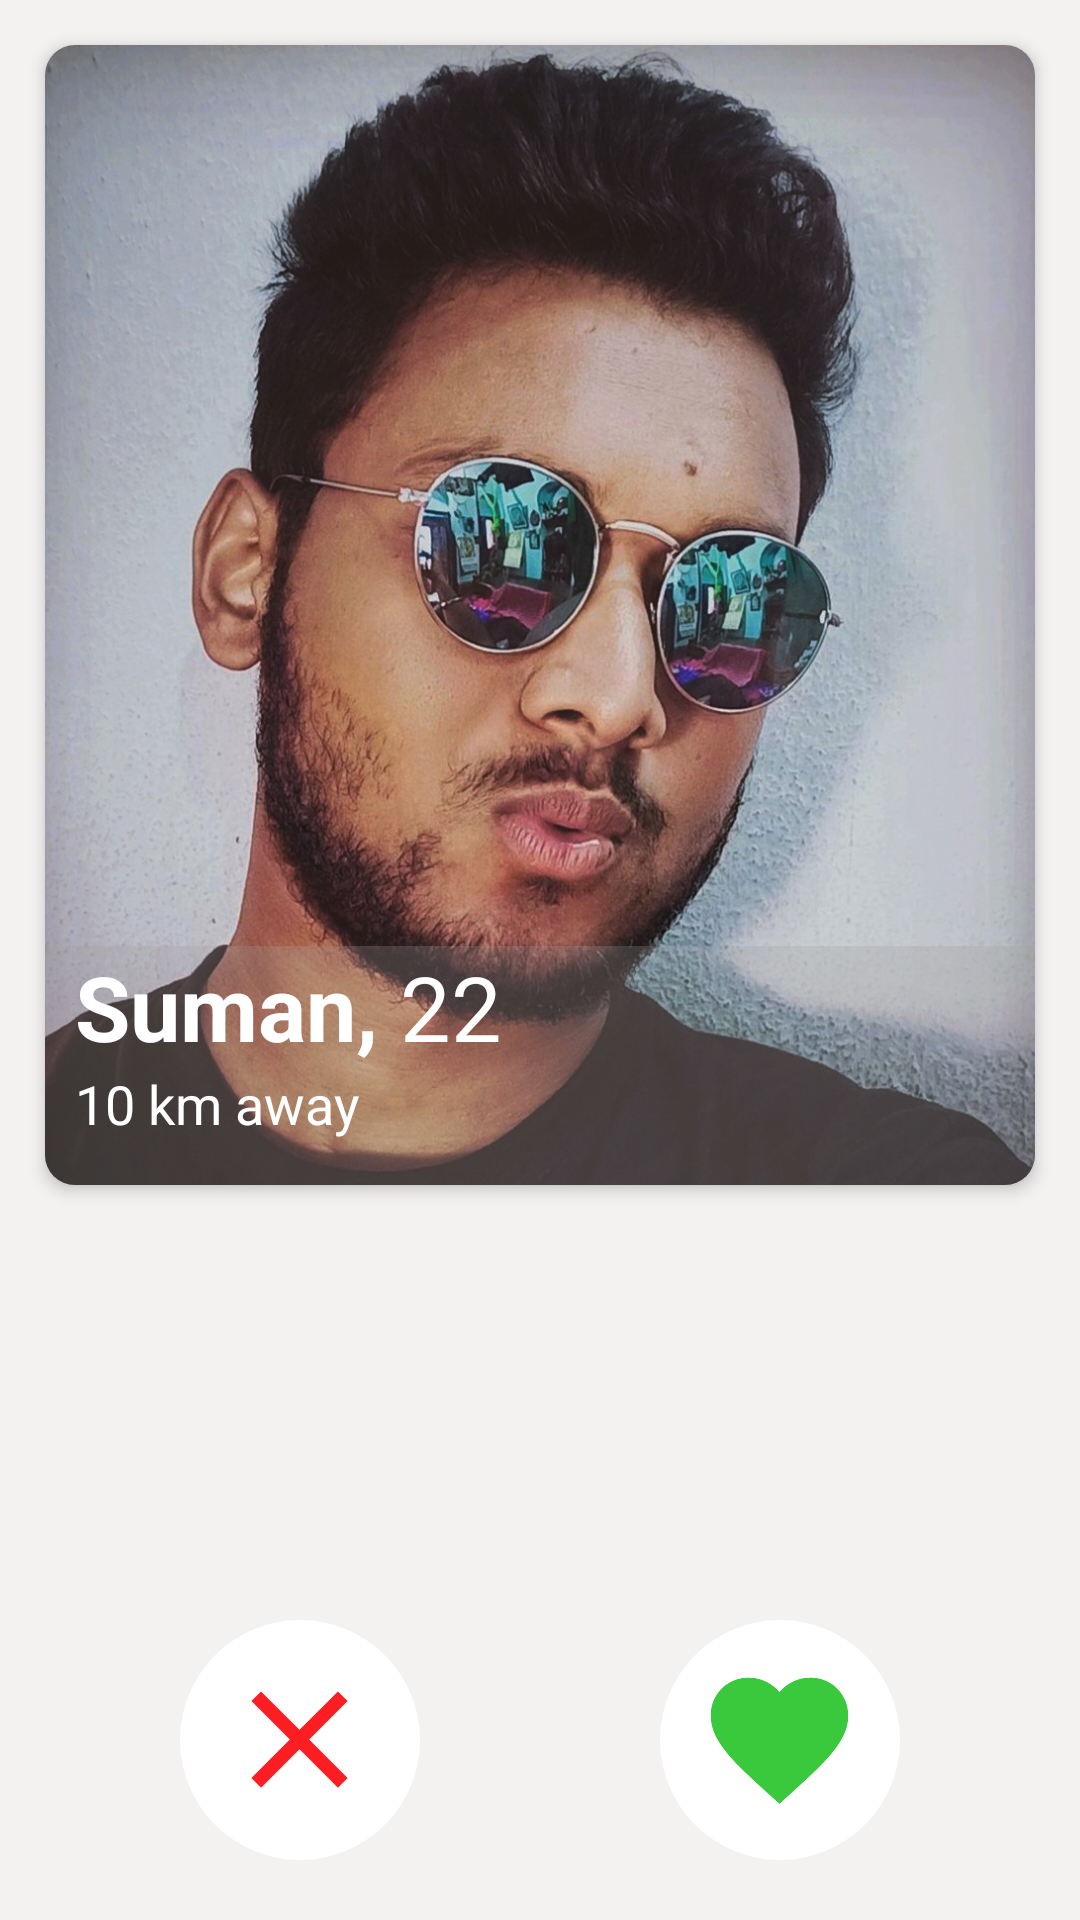

Screen size 1080px×1920px. Icon name, then its box in pixels as (x1, y1, x2, y2):
close: (251, 1691, 348, 1788)
favorite: (711, 1677, 848, 1804)
